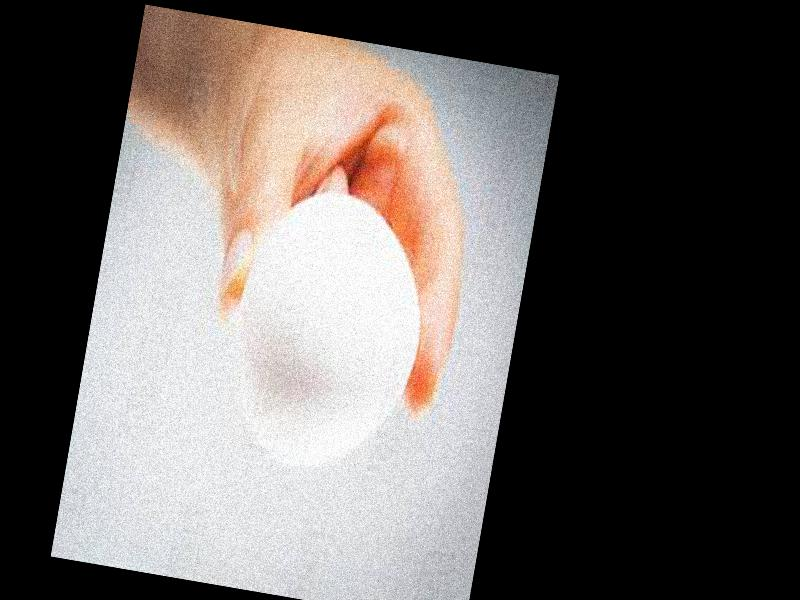Eggs: (216, 191, 440, 478)
